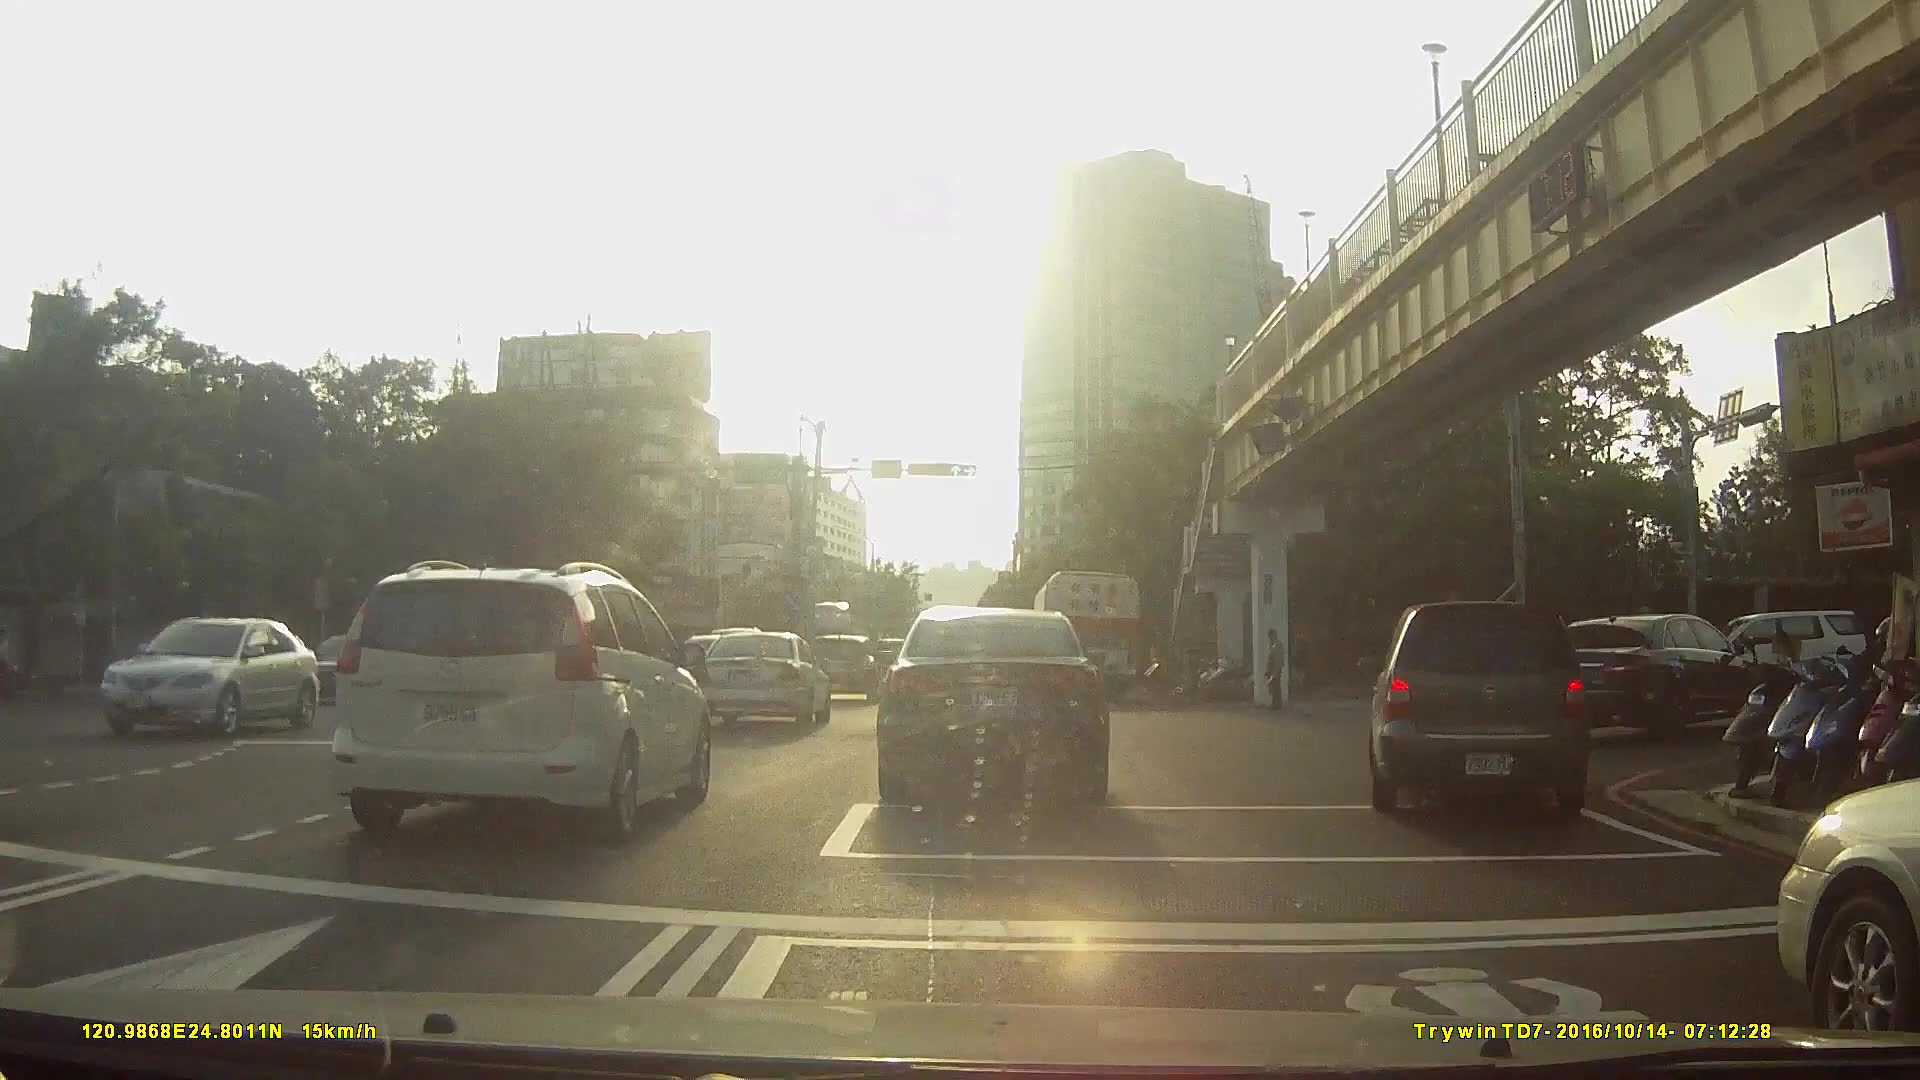pedestrian: (1259, 626, 1294, 714)
vehicle: (330, 555, 714, 842), (1354, 594, 1604, 821), (879, 598, 1110, 814), (1542, 613, 1806, 738), (101, 609, 330, 733), (1030, 565, 1141, 701), (697, 628, 833, 732), (809, 632, 885, 703)
